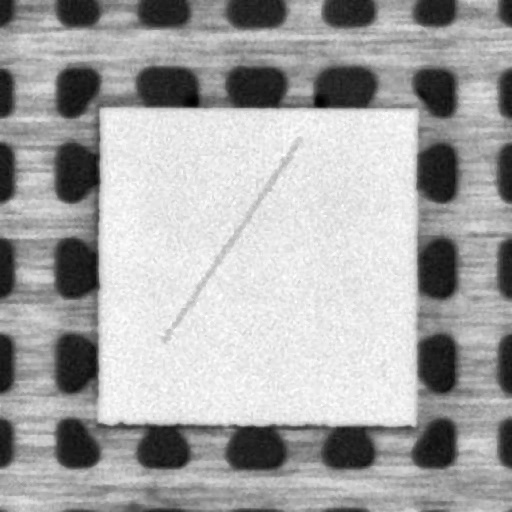DIE_CRACK: (162, 138, 299, 341)
